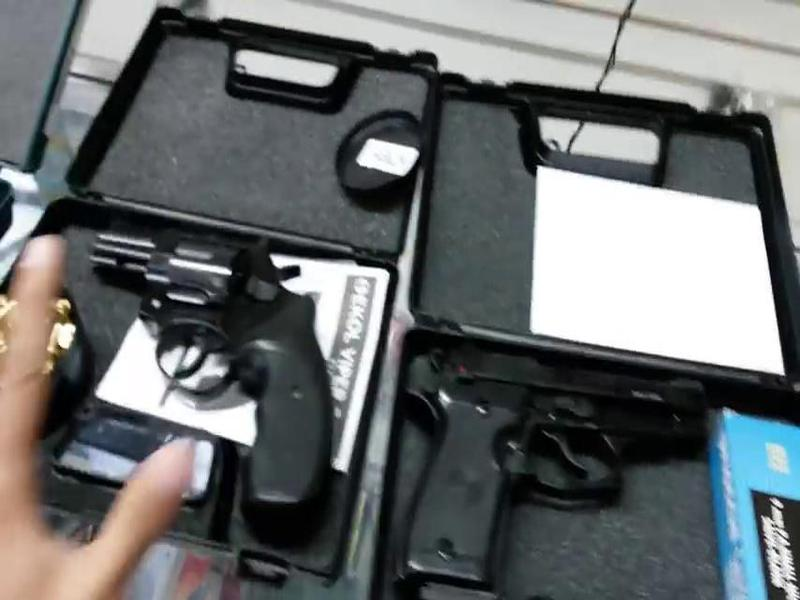Pistola: (389, 324, 730, 600)
